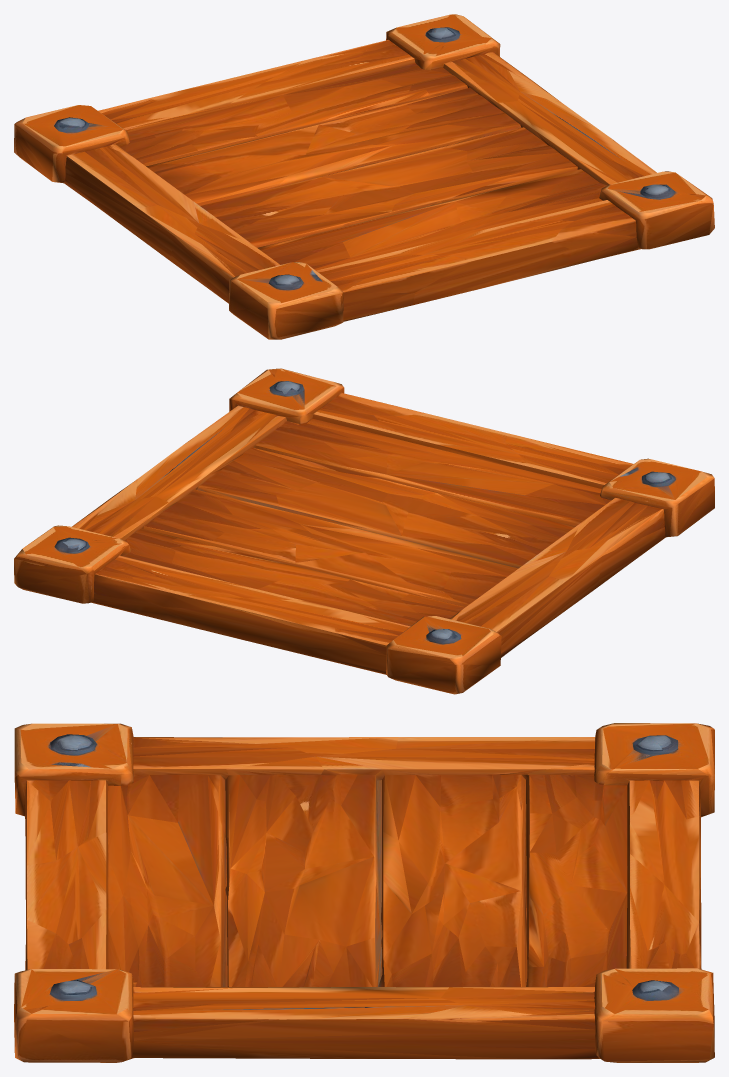
File: floor.glb
The picture shows the model from 3 angles, top to bottom: view 1: azimuth 30°, elevation 25°; view 2: azimuth 150°, elevation 25°; view 3: azimuth 270°, elevation 25°; orthographic projection. The views are drawn at different scales.
Parts seen in each view (by area): view 1: floor; view 2: floor; view 3: floor.
Boxes of the visible parts, x1,y1,x2,y2 form: floor: (14,14,714,339); floor: (14,368,714,694); floor: (14,723,714,1062).
Bounding box in the file's own units: 1.99 × 0.1803 × 1.99.
1 material, 1 textured.
